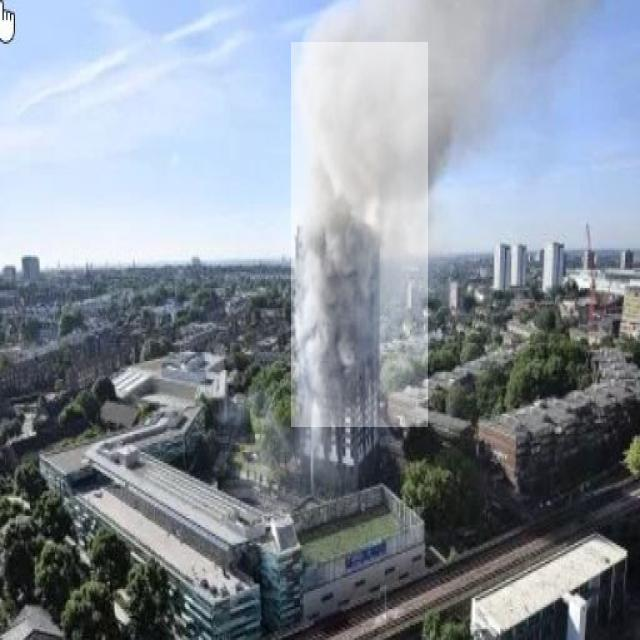Smoke: (291, 42, 428, 427)
